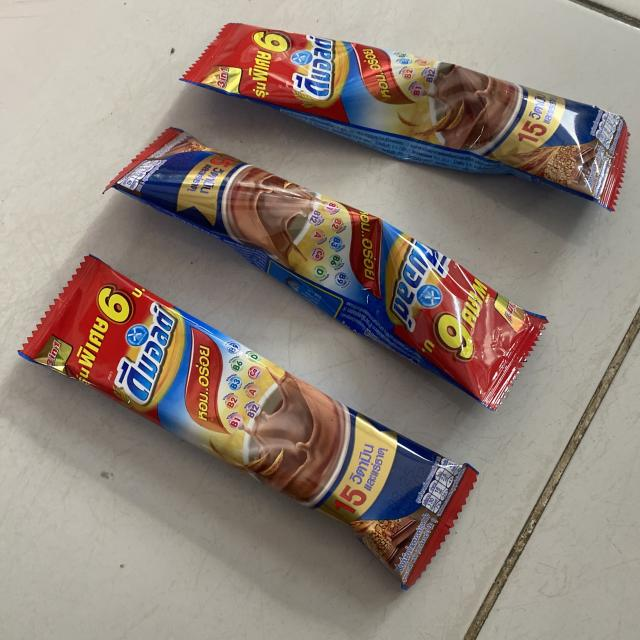plastik: (20, 256, 478, 589), (108, 128, 546, 409), (182, 24, 629, 210)
